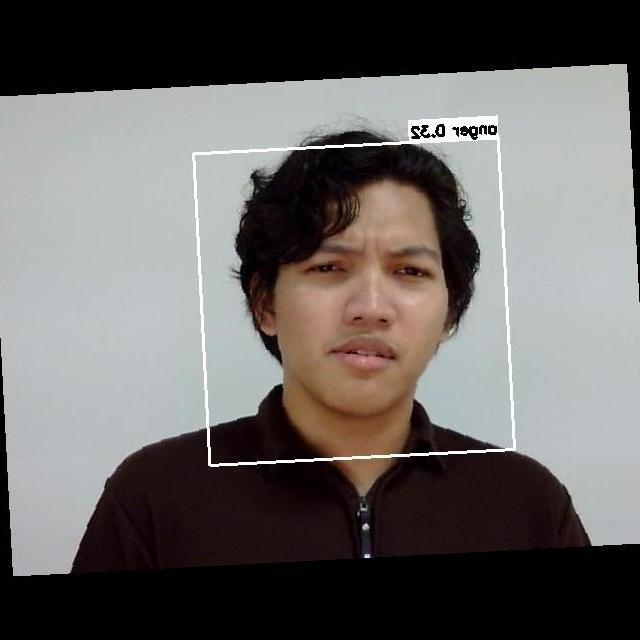Fear: (255, 215, 457, 391)
